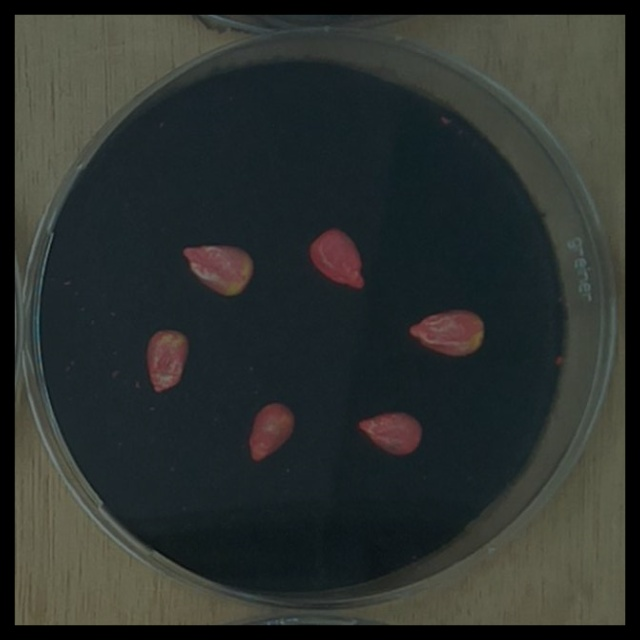Zea mays: (176, 237, 259, 303), (402, 301, 491, 362), (301, 221, 370, 297), (352, 403, 428, 462), (241, 394, 301, 467), (139, 321, 195, 399)
